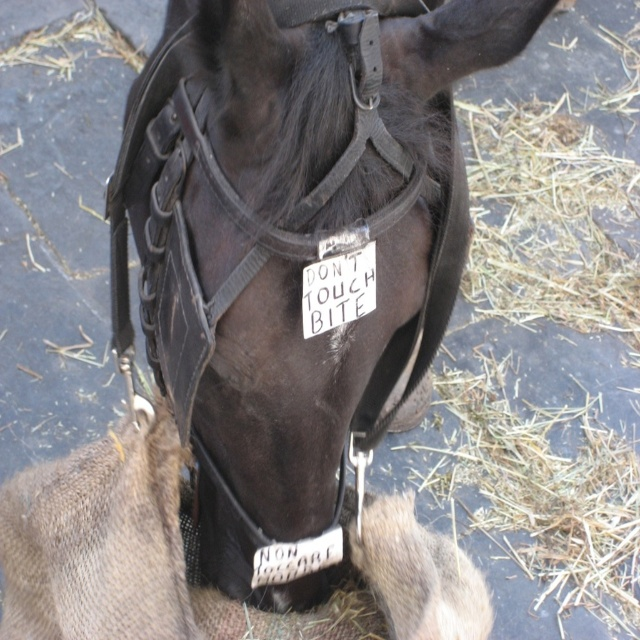Mule: (101, 0, 560, 614)
